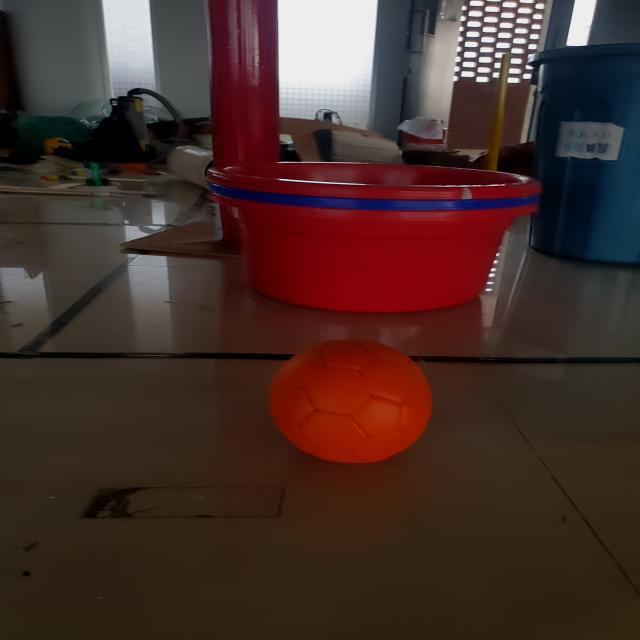bola: (260, 338, 436, 466)
